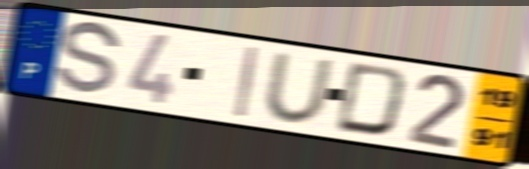2: (407, 73, 466, 152)
4: (125, 30, 176, 109)
D: (331, 59, 411, 139)
I: (232, 43, 262, 121)
S: (52, 20, 125, 99)
U: (261, 51, 337, 128)
